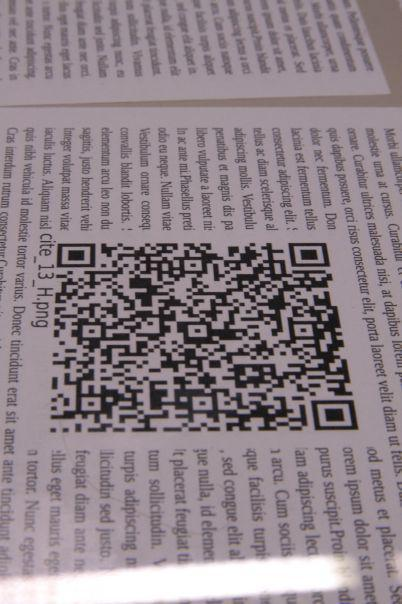Finder pattern: (304, 395, 367, 436), (282, 237, 337, 273), (50, 238, 103, 273)
